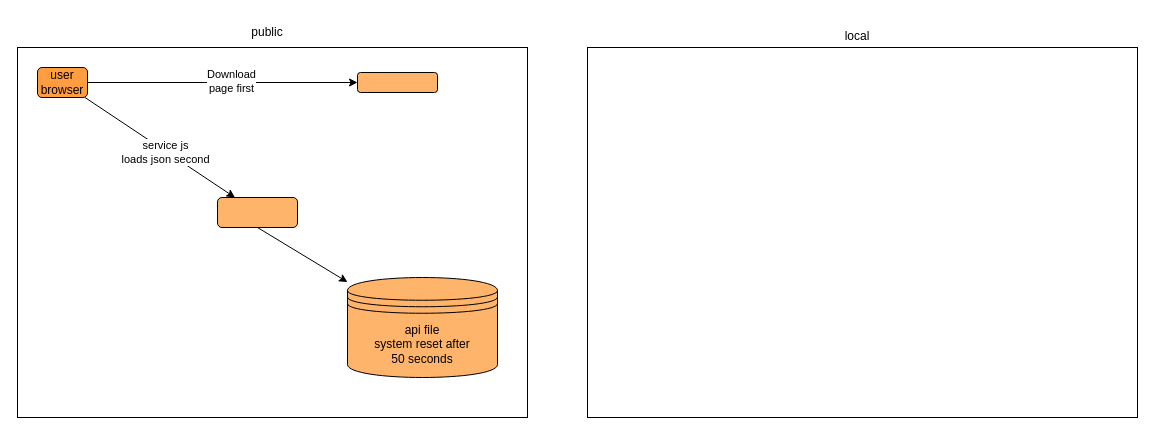
This 1155x435 diagram has some shape labels left out. Here are the shapes that lost their labels. From the top down, the centre of each, then its label:
At (397,82): "github pages".
At (257,212): "render.com".
